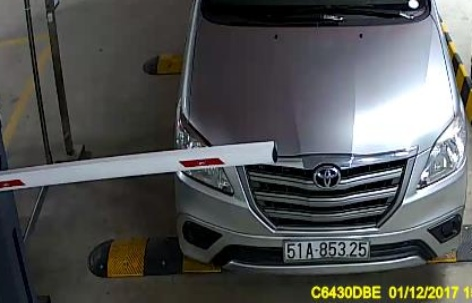plate: (279, 235, 369, 265)
